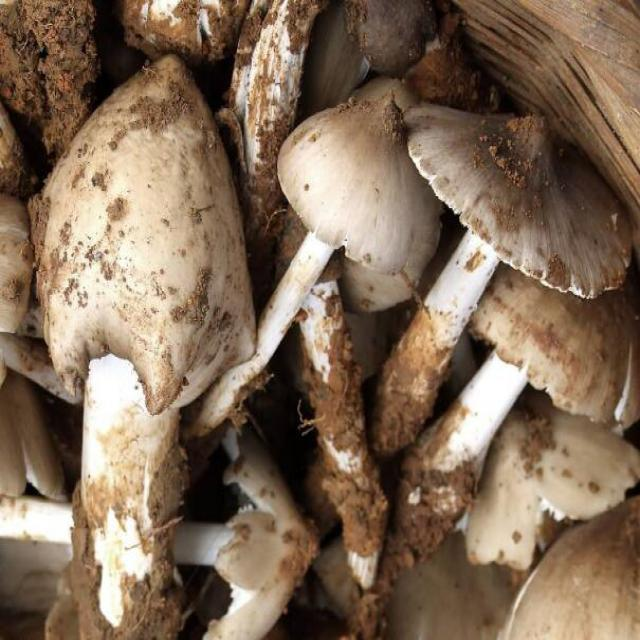Collybia albuminosa: (40, 56, 243, 570), (405, 103, 629, 439), (445, 267, 628, 506), (278, 71, 442, 320)
